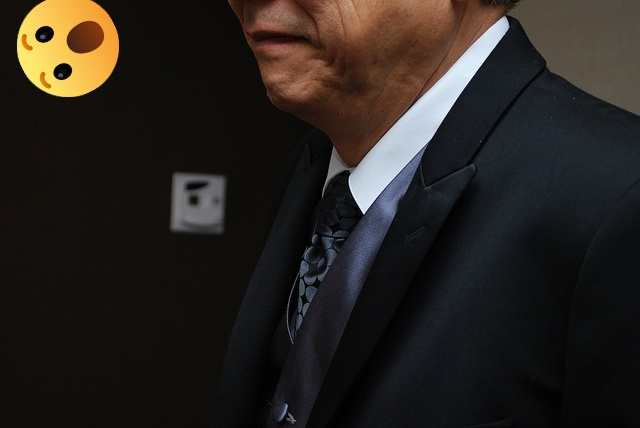wow: (17, 0, 119, 97)
